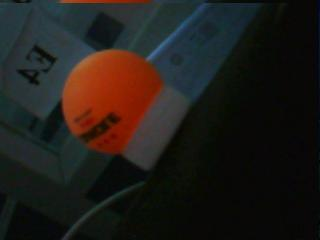oball: (63, 48, 162, 153)
